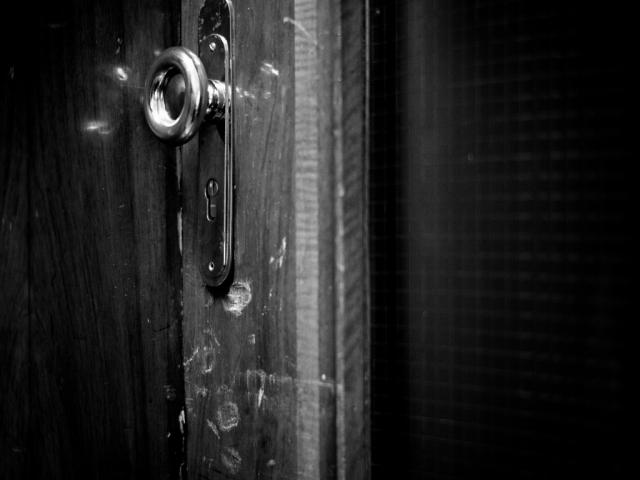Door-handle: (143, 0, 234, 288)
